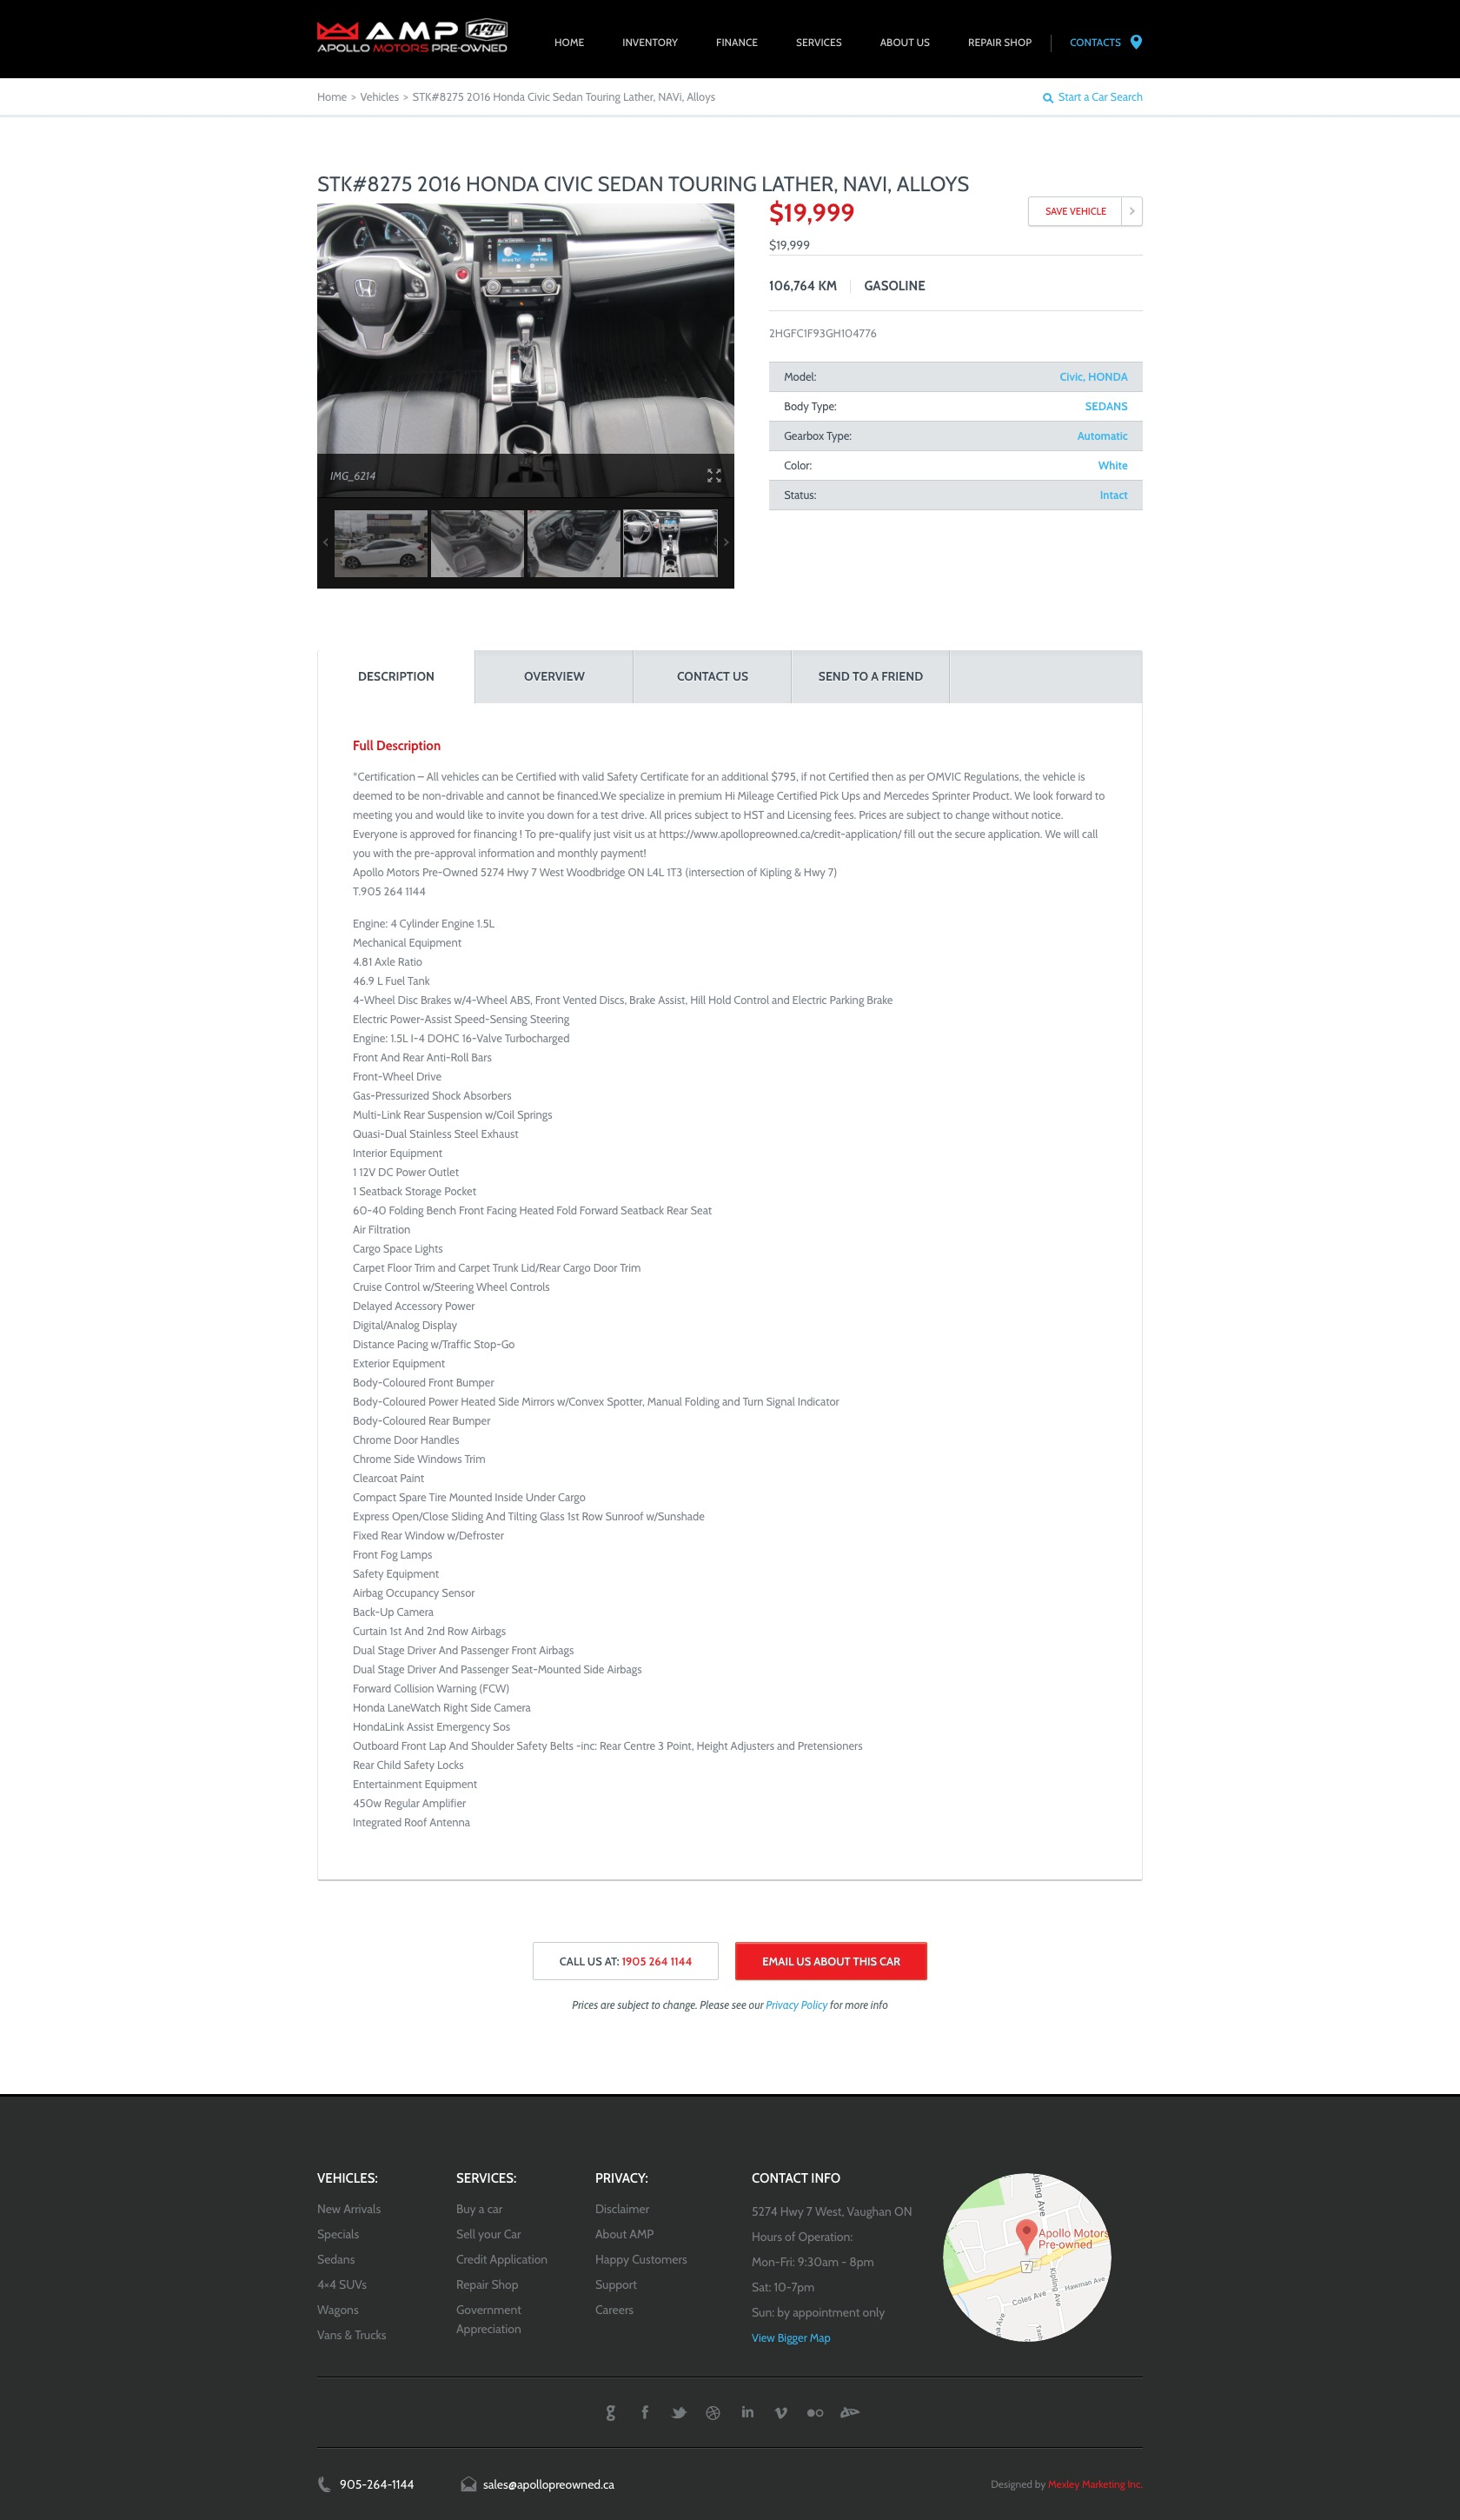car: (723, 539, 730, 547)
